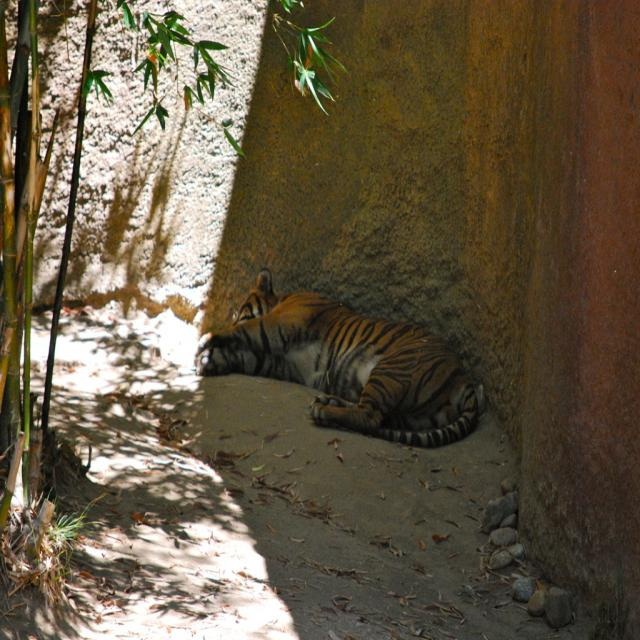Tiger: (192, 265, 480, 448)
